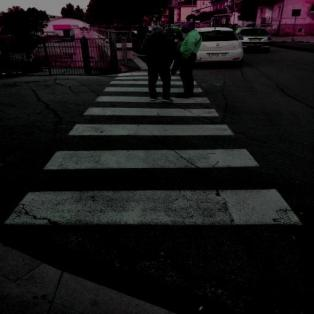Paso de Cebra: (0, 143, 306, 238), (78, 94, 224, 120)
